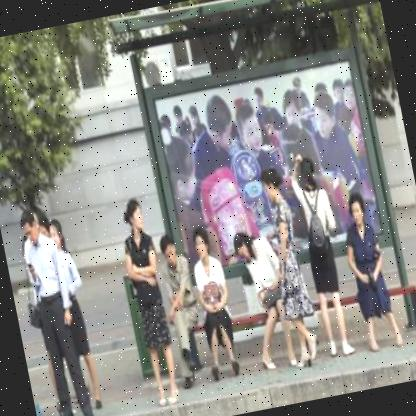person: (9, 198, 107, 416), (102, 188, 194, 414), (248, 161, 330, 378), (283, 150, 362, 360), (329, 183, 415, 360), (178, 221, 252, 388)
